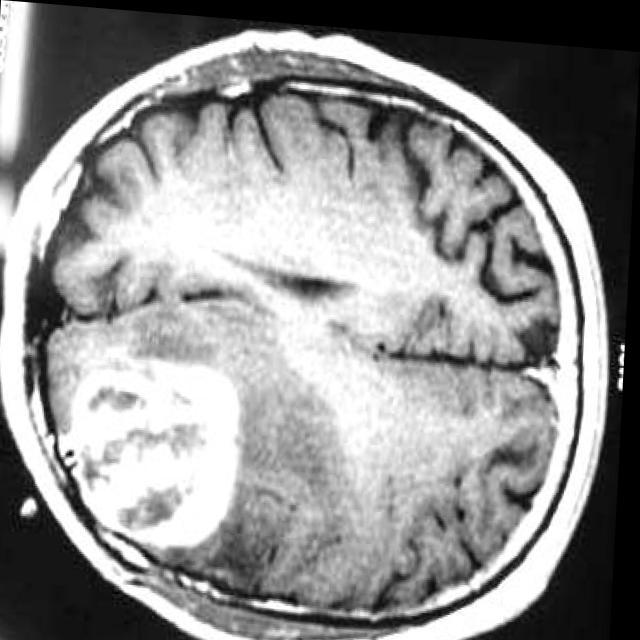Tumor: (72, 352, 242, 543)
